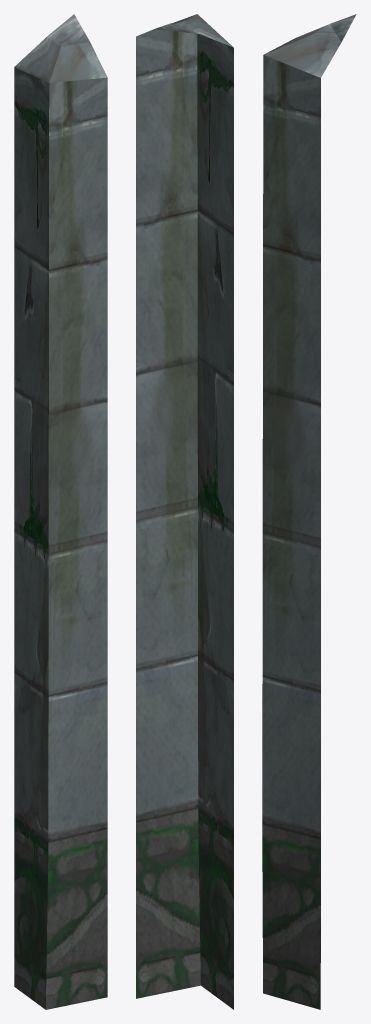
The model's file is stemple_wall_convex_01.fbx.
3 views of the same model, side by side, from view 1: azimuth 30°, elevation 25°; view 2: azimuth 210°, elevation 25°; view 3: azimuth 330°, elevation 25° (orthographic). The views are drawn at different scales.
Visible parts, largest first — view 1: obj0.031; view 2: obj0.031; view 3: obj0.031.
Boxes of the visible parts, x1,y1,x2,y2 form: obj0.031: [14, 14, 107, 1009]; obj0.031: [136, 14, 233, 1009]; obj0.031: [262, 14, 356, 1009].
Bounding box in the file's own units: 0.4235 × 6.37 × 0.4223.
